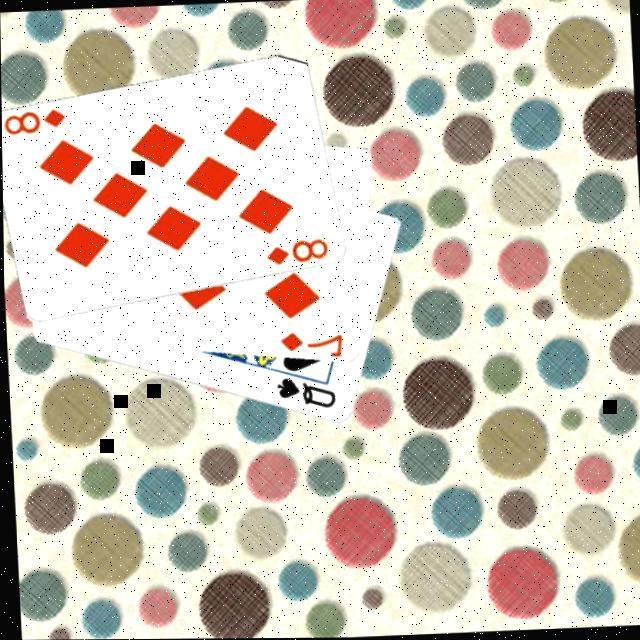7D: (274, 328, 344, 361)
8D: (260, 237, 328, 270), (1, 107, 66, 139)
QS: (269, 374, 336, 414)
